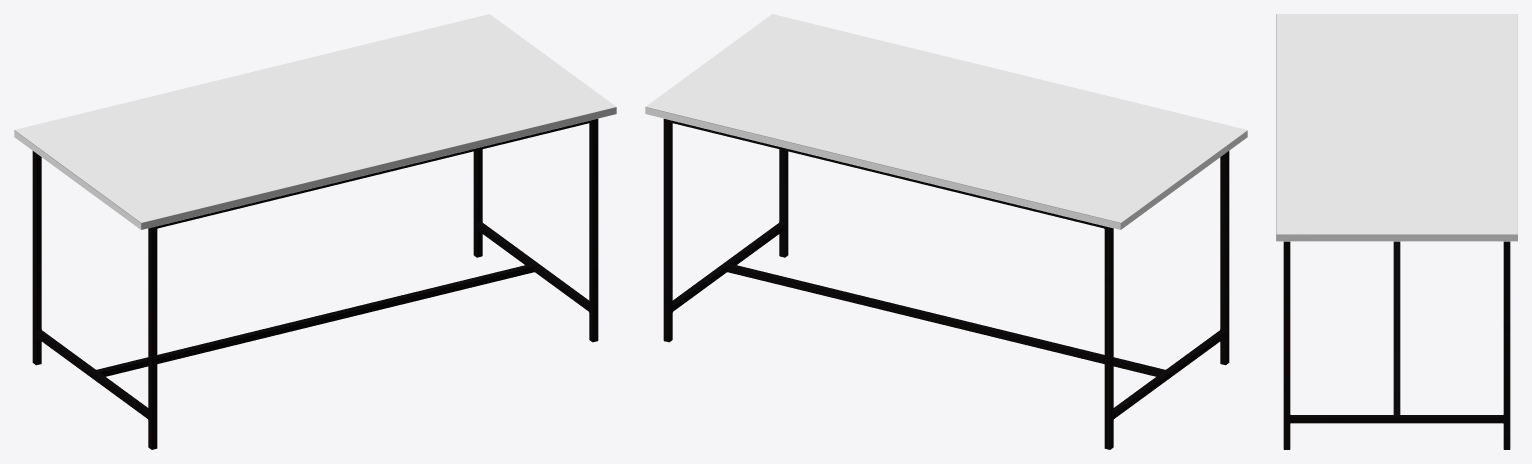
File: mesa.obj
The picture shows the model from 3 angles, left to right: view 1: azimuth 30°, elevation 25°; view 2: azimuth 150°, elevation 25°; view 3: azimuth 270°, elevation 25°; orthographic projection. The views are drawn at different scales.
Visible parts, largest first — view 1: tabletop, frame; view 2: tabletop, frame; view 3: tabletop, frame.
Part boxes in pixels (box(x1,y1,x2,y2)): tabletop: box(14, 14, 616, 229); frame: box(32, 119, 598, 449); tabletop: box(645, 14, 1247, 229); frame: box(663, 119, 1229, 449); tabletop: box(1276, 14, 1517, 241); frame: box(1283, 241, 1510, 449).
Size of the model in its own units: 7 by 3.28 by 3.24.
Materials: 2 (2 with a texture image).
